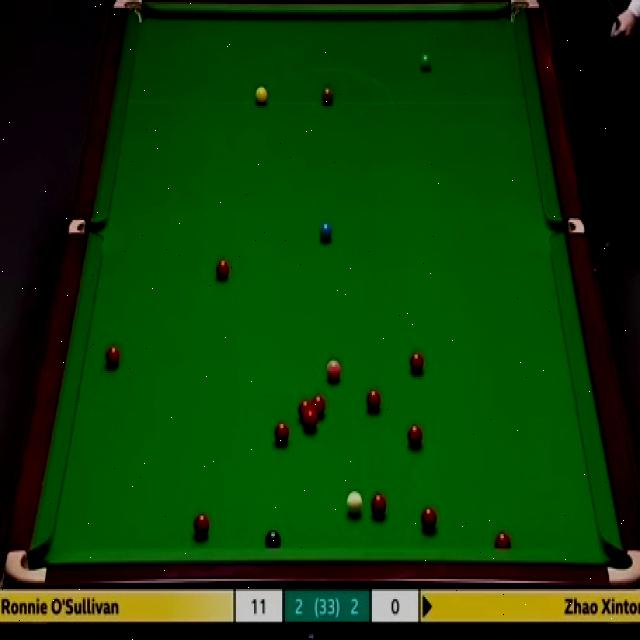black-ball: (264, 529, 283, 550)
blue-ball: (318, 222, 334, 243)
brown-ball: (321, 83, 333, 104)
green-ball: (416, 51, 432, 73)
pink-ball: (326, 360, 342, 385)
red-ball: (363, 386, 381, 413), (192, 512, 210, 539), (409, 350, 426, 376), (370, 494, 387, 519), (492, 529, 514, 548), (274, 421, 290, 447), (407, 422, 423, 448), (420, 508, 437, 532), (104, 346, 120, 370), (214, 257, 230, 280), (298, 399, 312, 425), (312, 395, 326, 419), (304, 412, 318, 432)
white-ball: (346, 492, 362, 517)
yellow-ball: (254, 87, 268, 105)
